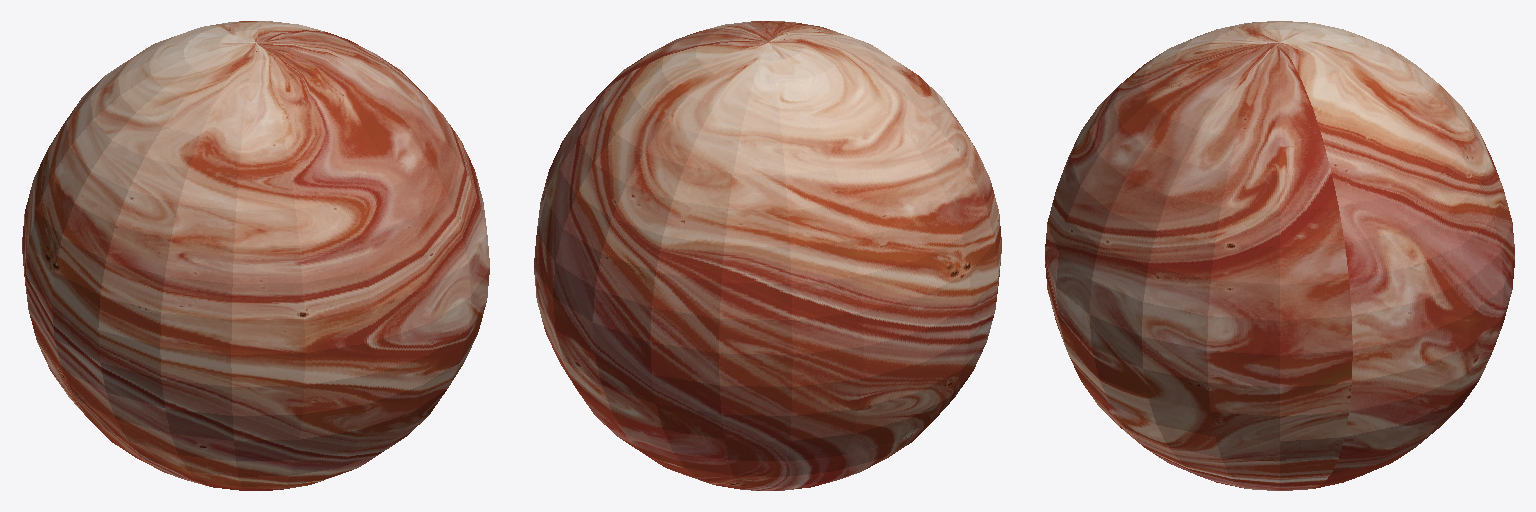
3 views of the same model, side by side, from view 1: azimuth 30°, elevation 25°; view 2: azimuth 150°, elevation 25°; view 3: azimuth 270°, elevation 25° (orthographic).
Parts seen in each view (by area): view 1: pSphere1; view 2: pSphere1; view 3: pSphere1.
Part boxes in pixels (left/top/right/bottom): pSphere1: left=22, top=21, right=489, bottom=490; pSphere1: left=534, top=21, right=1001, bottom=490; pSphere1: left=1045, top=21, right=1514, bottom=490.
Bounding box in the file's own units: 2 × 2 × 2.
Materials: 1 (1 with a texture image).